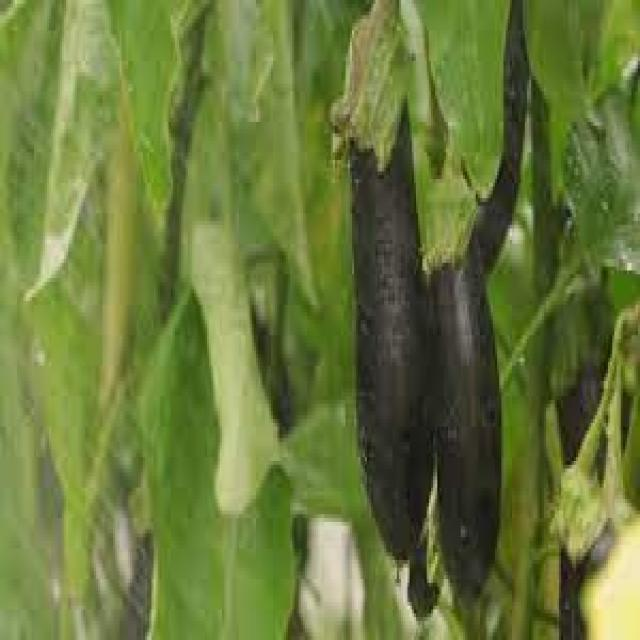Eggplant: (348, 8, 436, 570), (429, 160, 504, 606)
